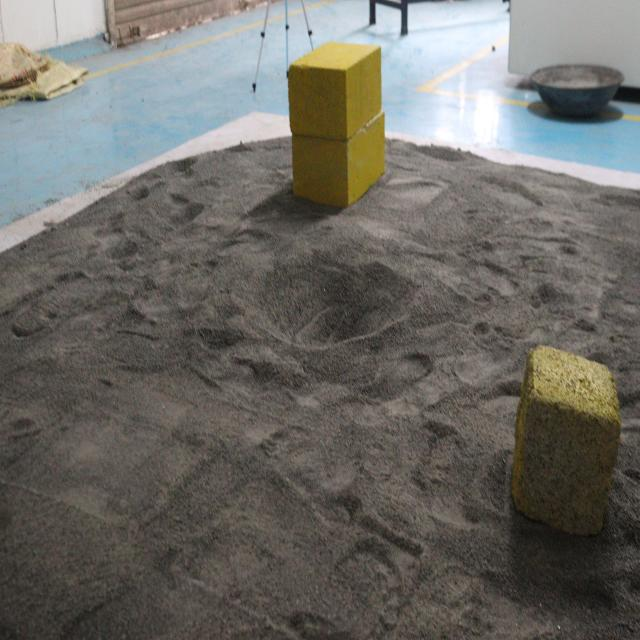box: (510, 338, 616, 536), (287, 35, 389, 208)
crater: (232, 242, 432, 371)
